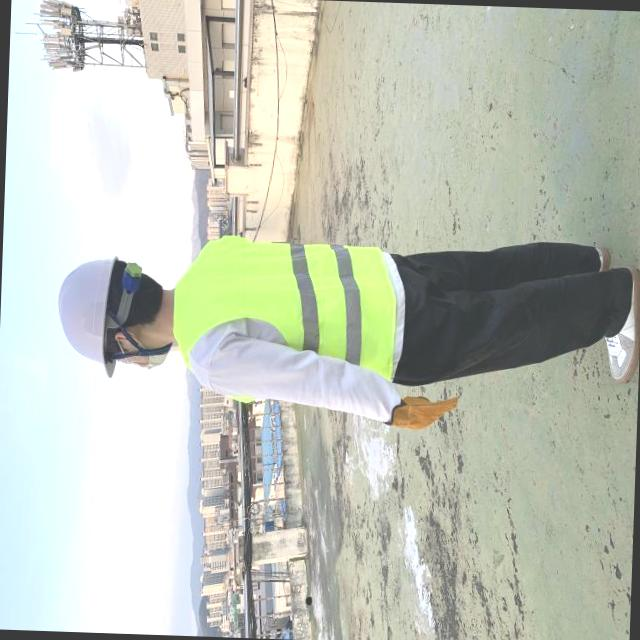boots: (591, 257, 640, 396)
gloves: (343, 358, 493, 446)
helmet: (43, 242, 130, 401)
vest: (164, 224, 400, 402)
